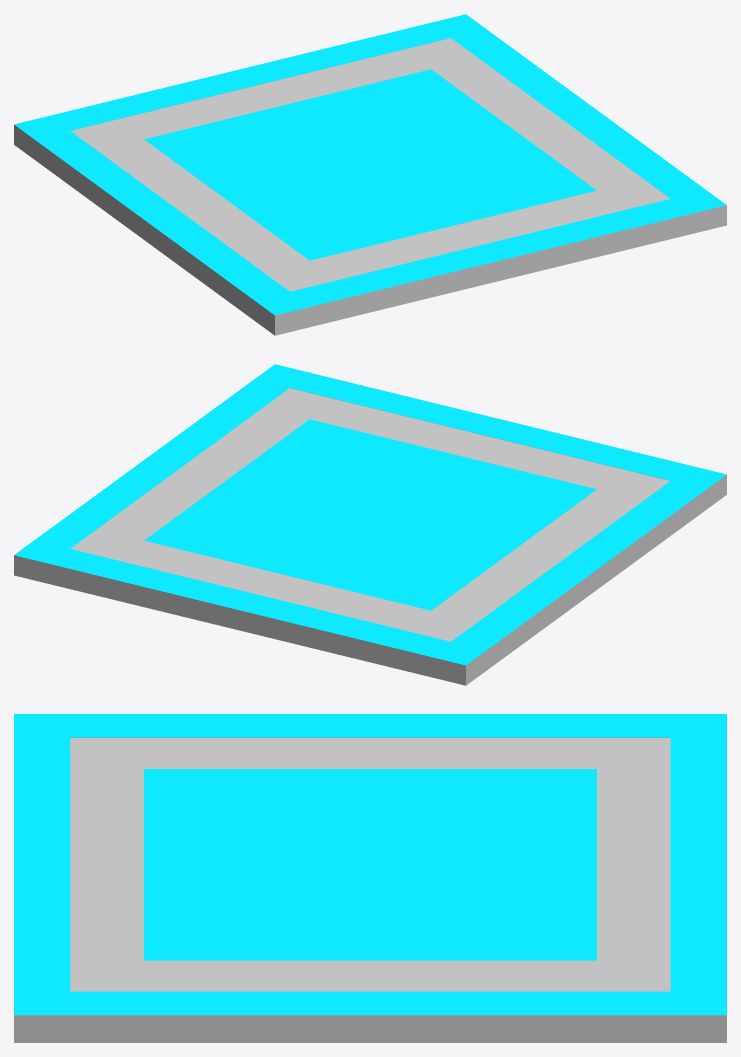
Rendered from Pressure Plate.fbx.
3 renders of one model, top to bottom at view 1: azimuth 30°, elevation 25°; view 2: azimuth 150°, elevation 25°; view 3: azimuth 270°, elevation 25°, orthographic. The views are drawn at different scales.
Parts seen in each view (by area): view 1: Cube; view 2: Cube; view 3: Cube.
Part boxes in pixels (bbox=[...]): Cube: bbox=[14, 14, 726, 335]; Cube: bbox=[14, 364, 726, 685]; Cube: bbox=[14, 714, 726, 1042].
Bounding box in the file's own units: 598 × 25.6 × 598.
